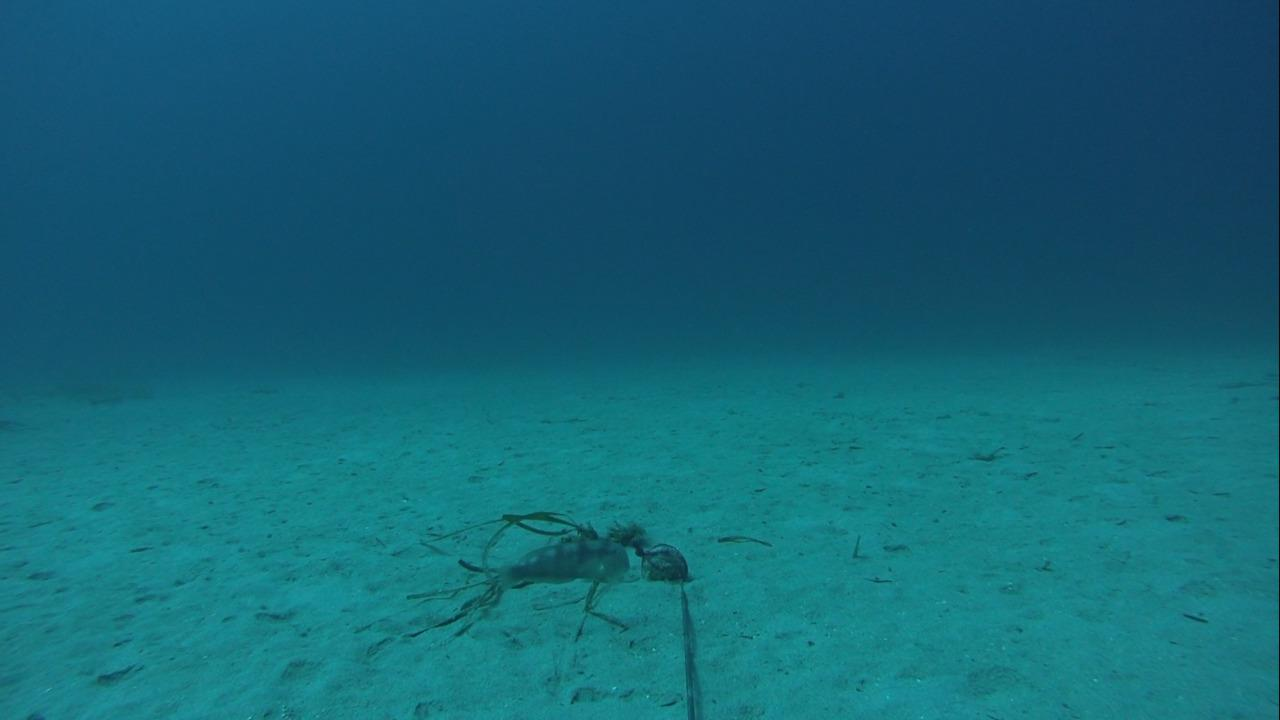raor: (489, 536, 633, 594)
